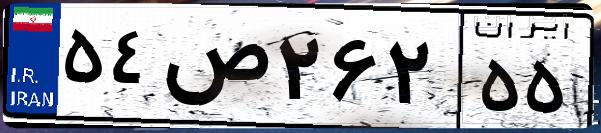2: (270, 28, 330, 110), (385, 28, 445, 110)
4: (110, 28, 158, 98)
5: (57, 26, 110, 100), (475, 38, 525, 113), (525, 38, 570, 115)
6: (330, 28, 385, 110)
ص: (158, 20, 270, 120)
